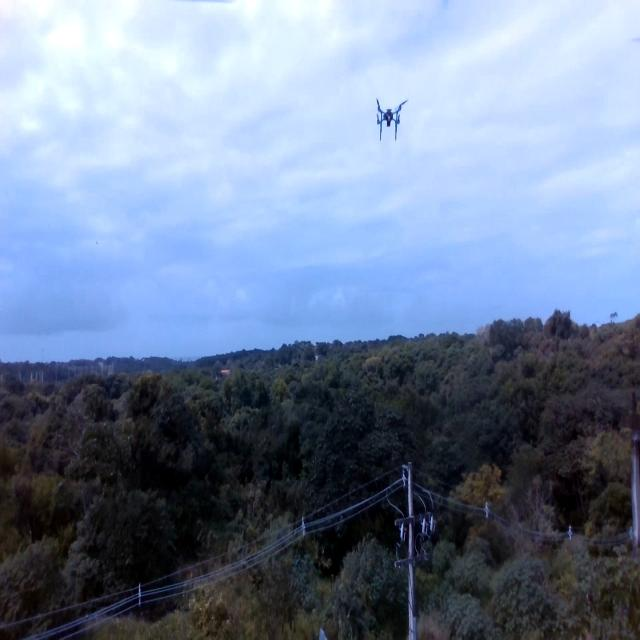-uav-: (372, 90, 407, 150)
